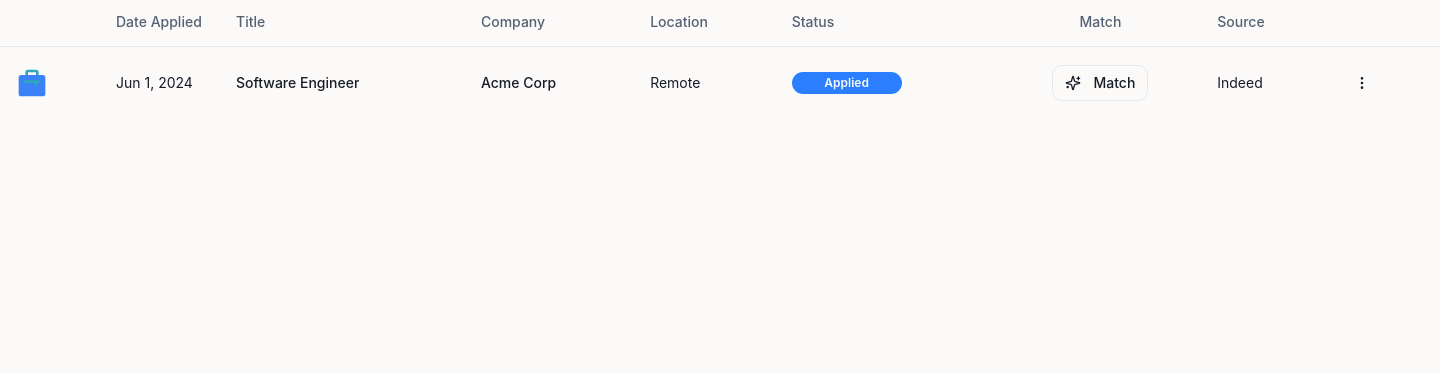
it: MyJobsTable › row actions menu › disables the current status option in the Change status submenu
The image size is (1440, 373).
Click the button with test id "job-actions-menu-btn" at (1362, 82), box [1342, 62, 1382, 102]
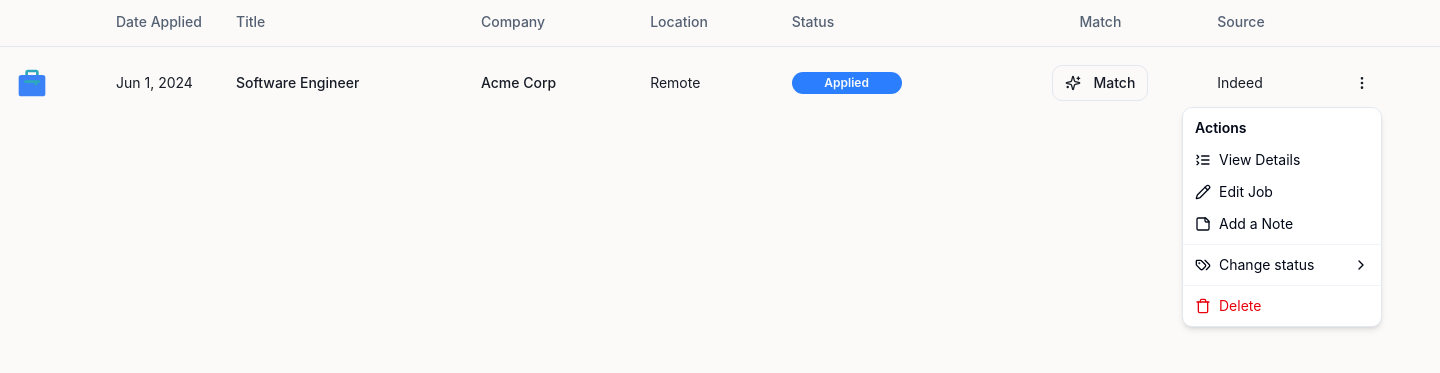
Press Arrowdown Arrowdown Arrowdown {ArrowD
Press Arrowright
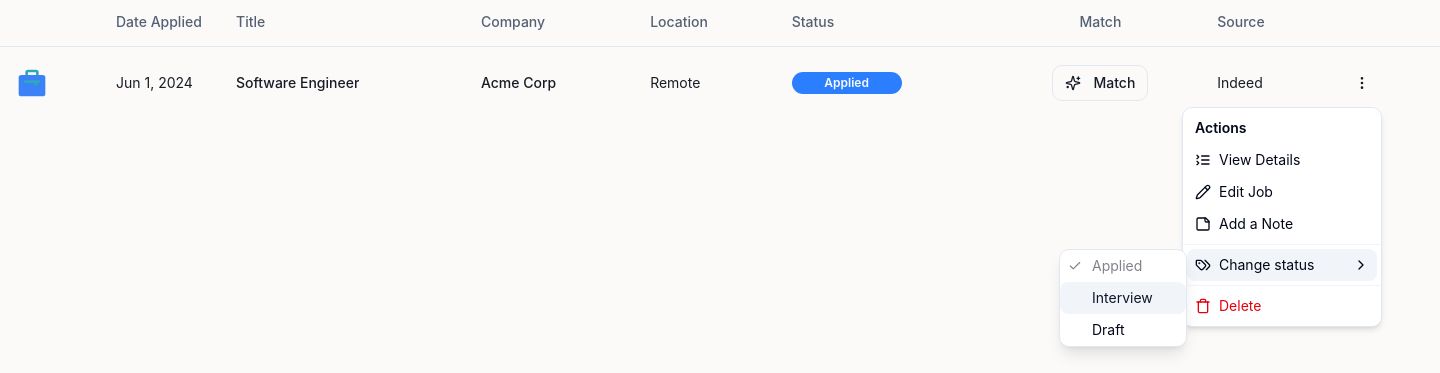
Check: the text "Interview" is shown, box [1092, 288, 1153, 308]
